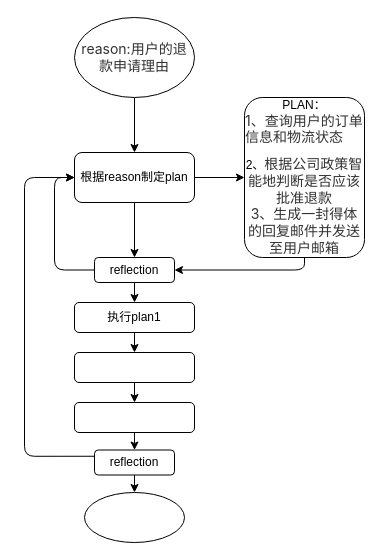
Image size: 382x560. Some labels were removed from this diagram. The shapes that lost their labels are listed below. From the top down, each one's centre as x and y in pixels, then its label:
At [134,367]: "执行plan2".
At [134,417]: "执行plan3".
At [134,517]: "结束".
